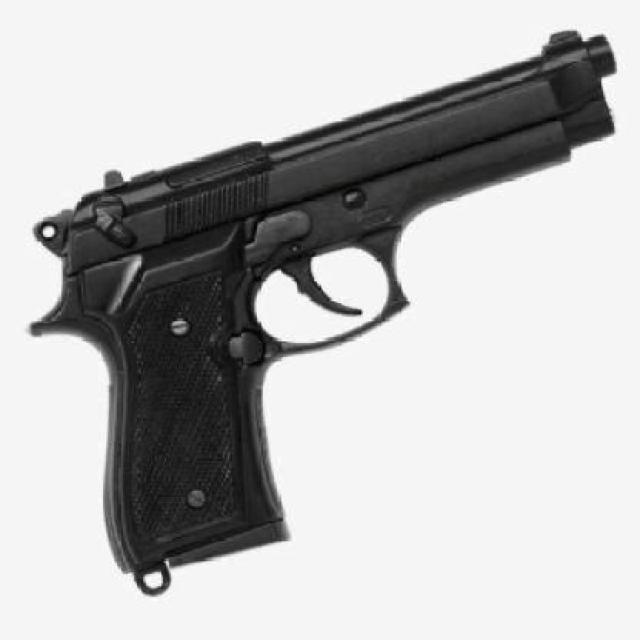gun: (27, 25, 621, 593)
